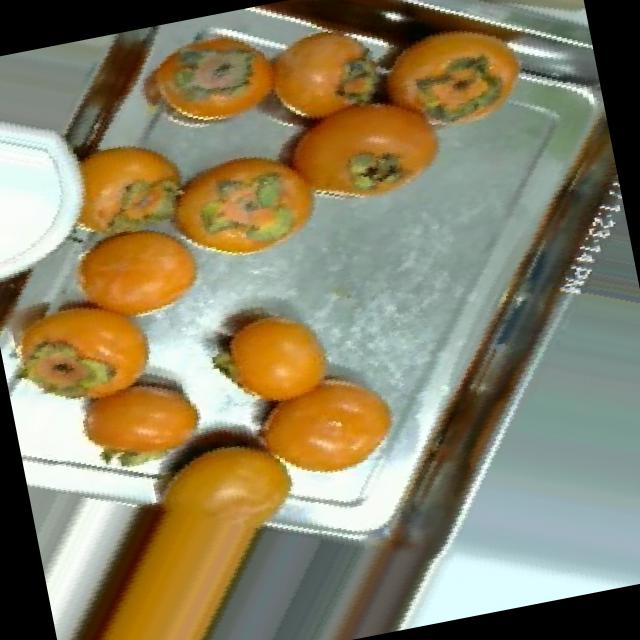Fruit: (257, 66, 473, 234), (340, 0, 558, 165), (139, 122, 346, 293), (224, 349, 427, 513), (0, 271, 179, 434), (186, 281, 354, 433), (49, 354, 222, 474)
